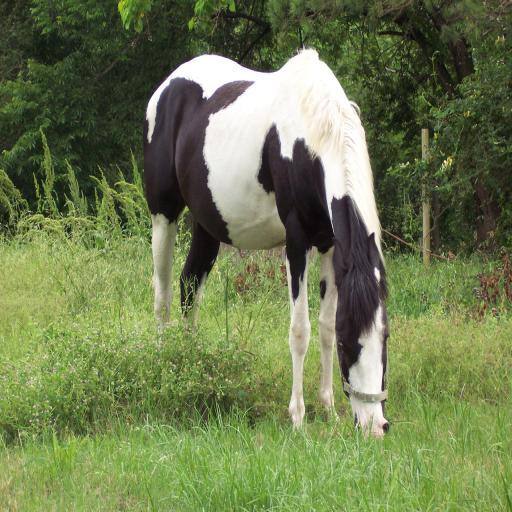Horse: (142, 44, 391, 441)
